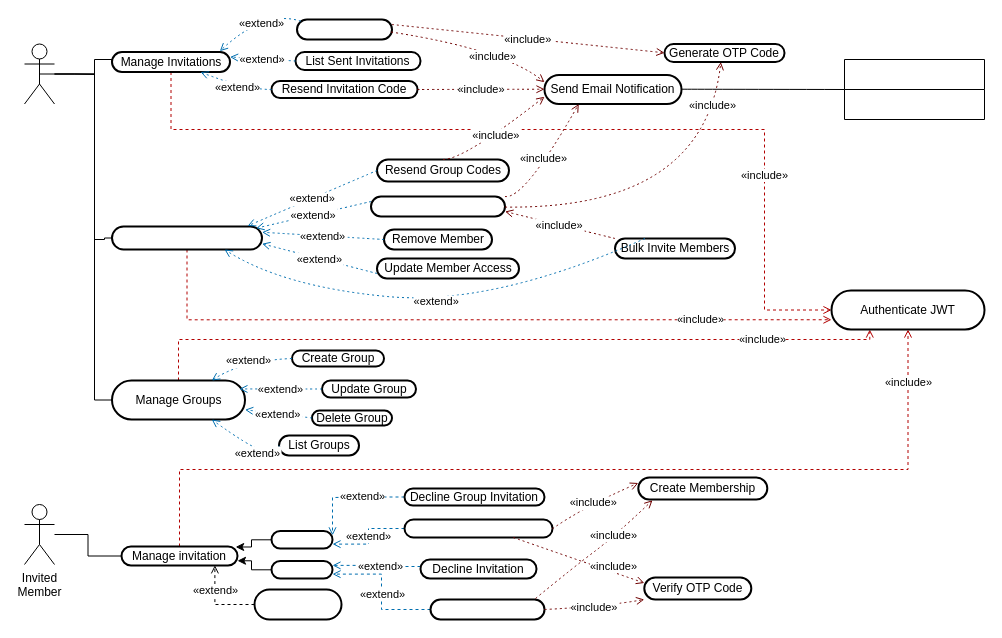
The diagram is 1002 pixels wide and 638 high, and some of its shapes have lost their labels. Each missing label, with the centre of its shape:
"Accept Group Invitation" goes at (x=478, y=528).
"Accept Invitation" goes at (x=487, y=609).
"Camera Owner" goes at (x=39, y=73).
"Create Invitation" goes at (x=344, y=29).
"Group" goes at (x=301, y=539).
"Invite Group Member" goes at (x=438, y=206).
"List Received Invitations" goes at (x=297, y=604).
"Manage Group Members" goes at (x=186, y=237).
"Single" goes at (x=301, y=569).
"📧 SMTP Service" goes at (x=914, y=89).
